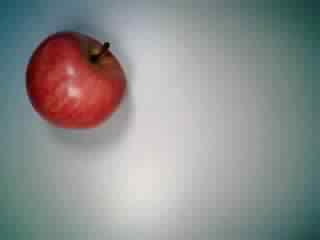apple: (24, 28, 131, 131)
